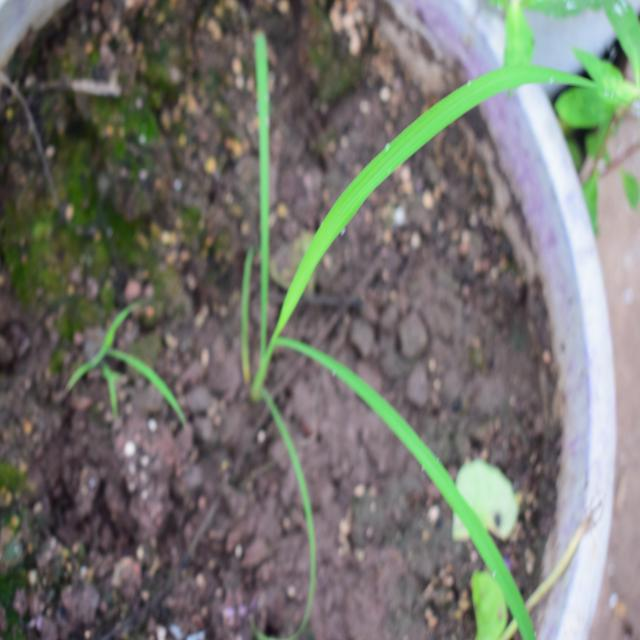barnyard_grass: (209, 29, 575, 586)
